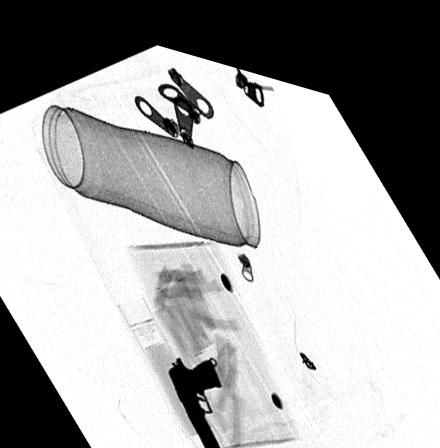Gun: (166, 344, 227, 448)
